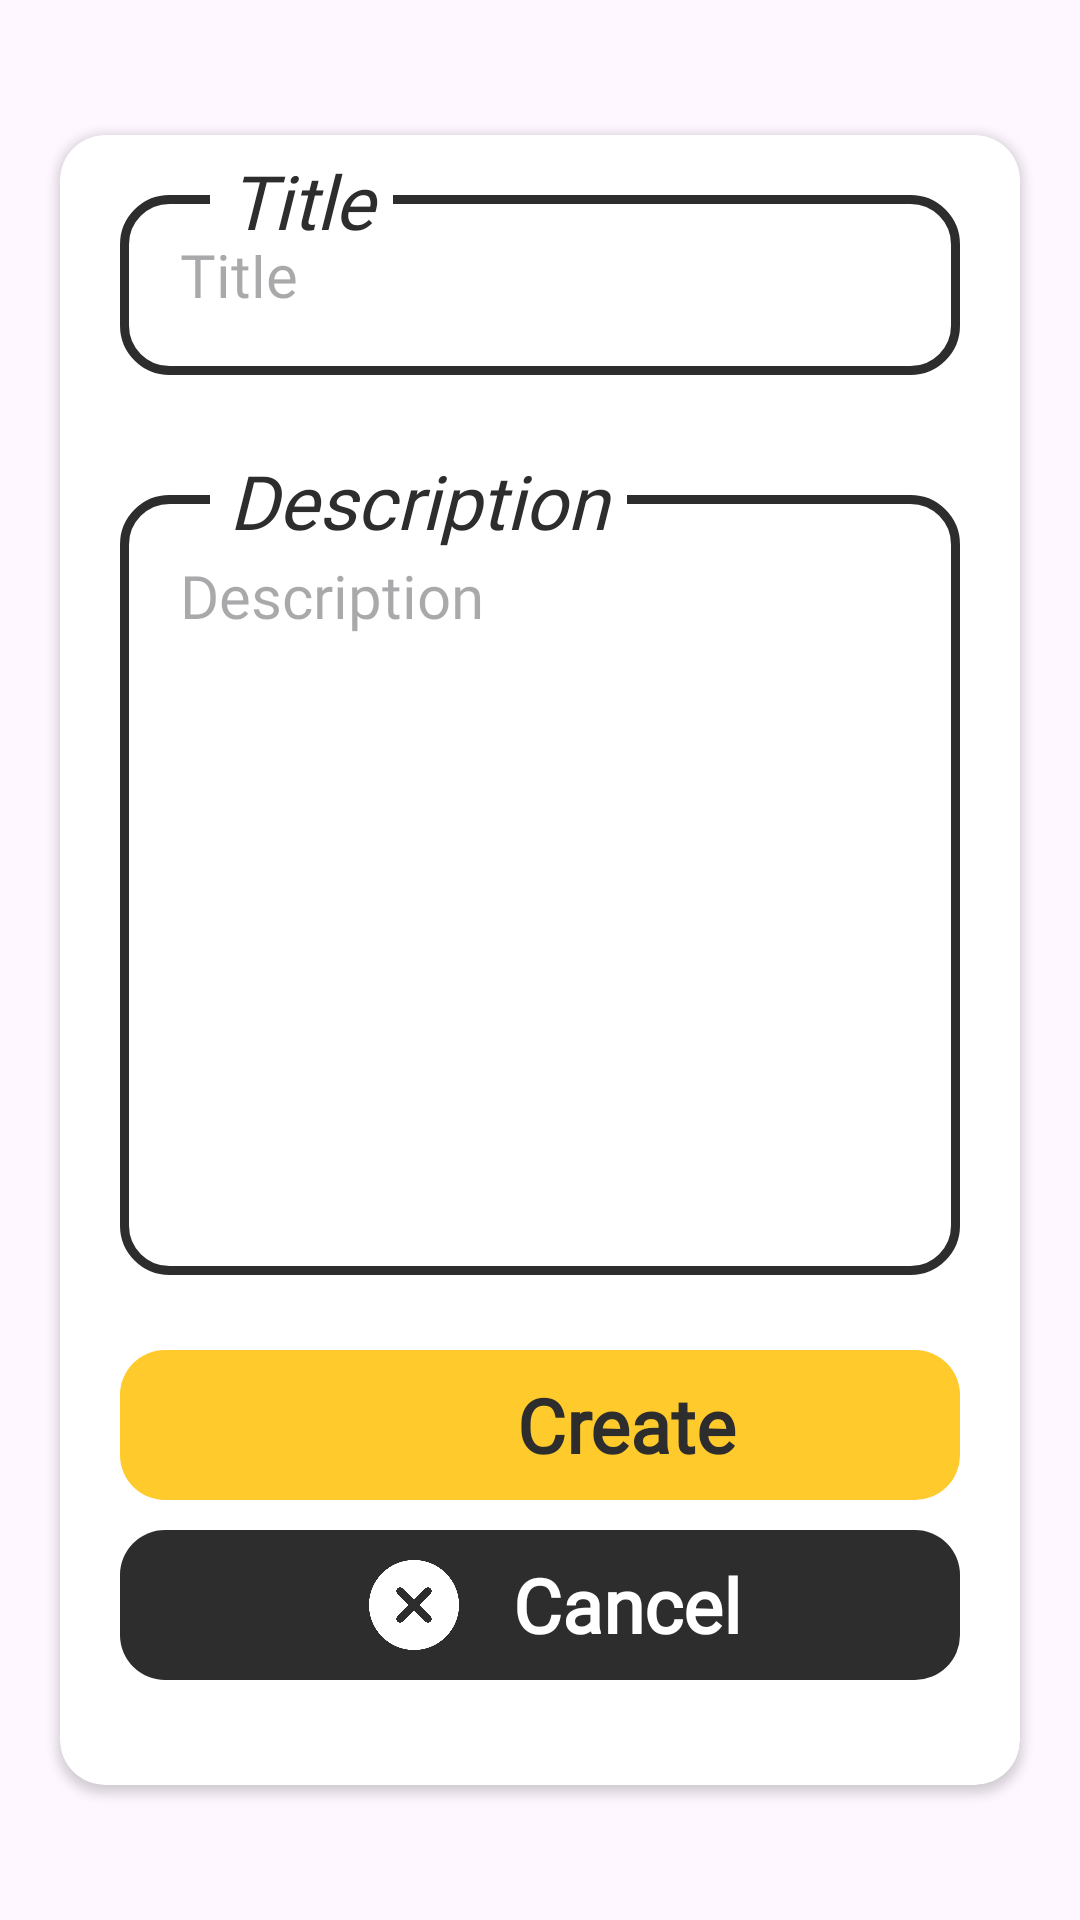

Icons on this 1080x1920 Android screen, each with its box as (x1, y1, x2, y2):
cross: (369, 1560, 459, 1650)
